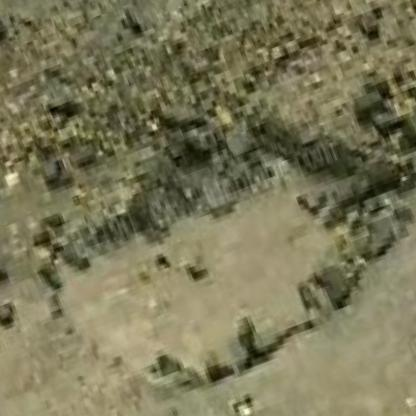pothole: (10, 58, 416, 416)
